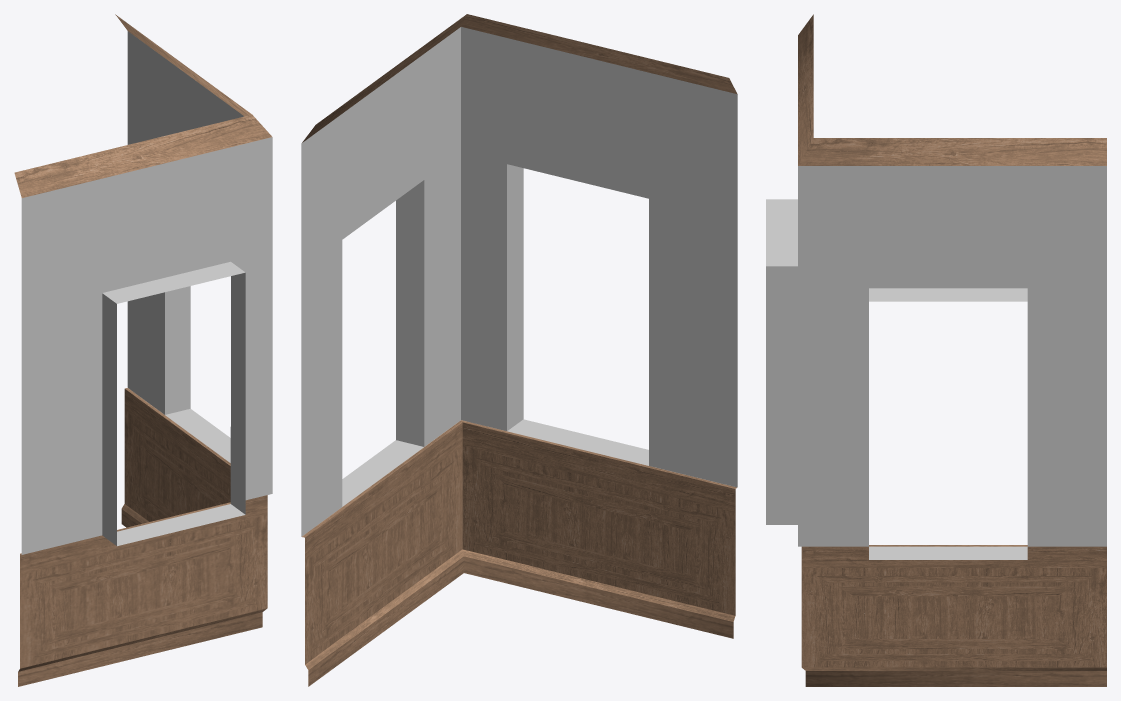
Rendered from WallIntWindowCornerinside2A.fbx.
3 views of the same model, side by side, from view 1: azimuth 30°, elevation 25°; view 2: azimuth 150°, elevation 25°; view 3: azimuth 270°, elevation 25° (orthographic). The views are drawn at different scales.
Parts seen in each view (by area): view 1: WallIntWindowCornerinside2A; view 2: WallIntWindowCornerinside2A; view 3: WallIntWindowCornerinside2A.
Part boxes in pixels (x1=…): WallIntWindowCornerinside2A: x1=14, y1=14, x2=272, y2=686; WallIntWindowCornerinside2A: x1=301, y1=14, x2=737, y2=686; WallIntWindowCornerinside2A: x1=766, y1=14, x2=1106, y2=686.
Bounding box in the file's own units: 215 × 380 × 215.
